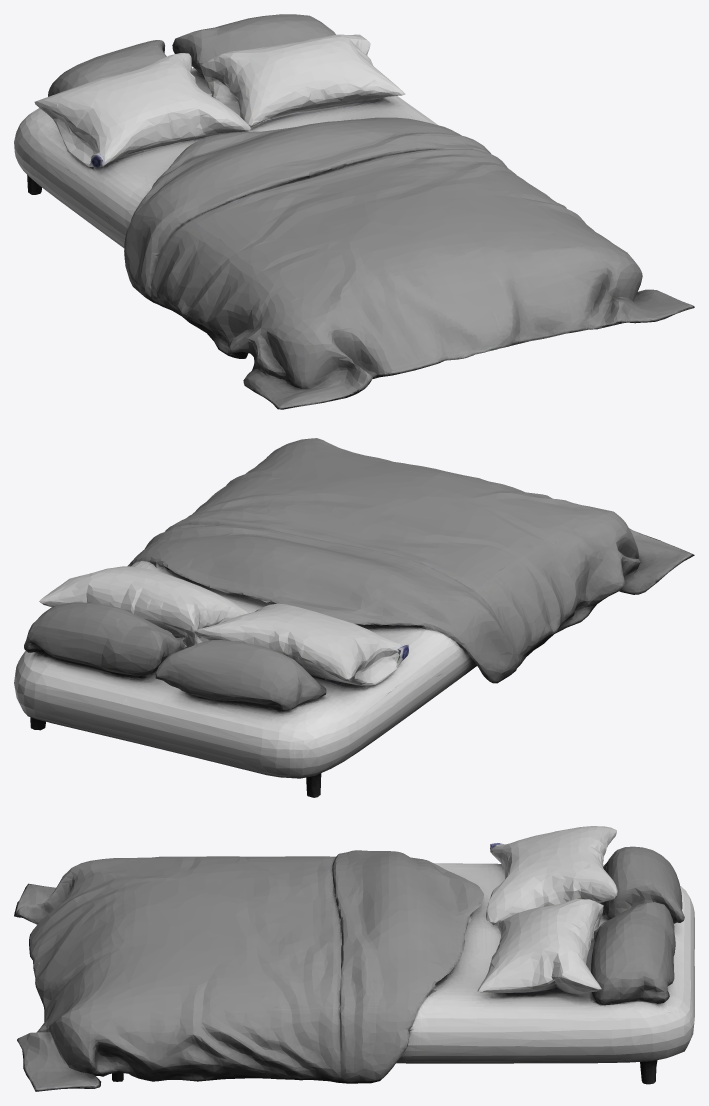
3 views of the same model, one above another, from view 1: azimuth 30°, elevation 25°; view 2: azimuth 150°, elevation 25°; view 3: azimuth 270°, elevation 25° (orthographic).
Parts seen in each view (by area): view 1: world; view 2: world; view 3: world.
Boxes of the visible parts, box(x1,y1,x2,y2) form: world: box(14, 14, 694, 409); world: box(14, 438, 694, 797); world: box(14, 826, 694, 1091).
Size of the model in its own units: 0.7087 by 0.2108 by 0.996.
1 material, 1 textured.
